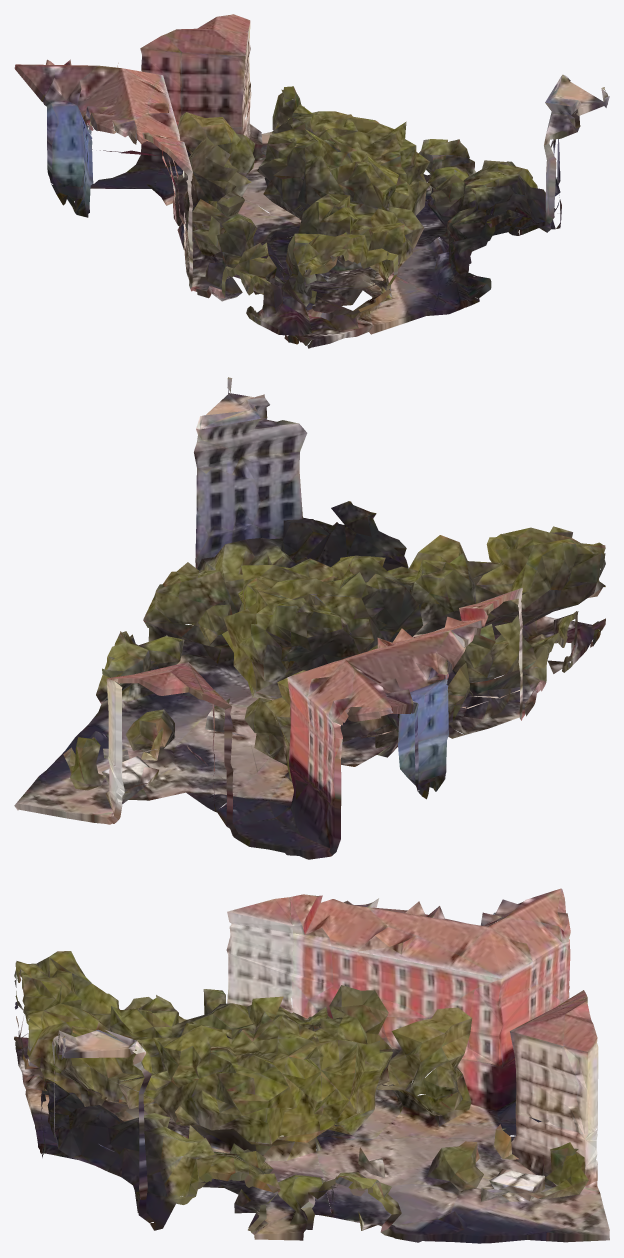
The picture shows the model from 3 angles, top to bottom: view 1: azimuth 30°, elevation 25°; view 2: azimuth 150°, elevation 25°; view 3: azimuth 270°, elevation 25°; orthographic projection. The views are drawn at different scales.
Parts seen in each view (by area): view 1: Mesh_0; view 2: Mesh_0; view 3: Mesh_0.
Boxes of the visible parts, x1,y1,x2,y2 form: Mesh_0: [14, 14, 609, 348]; Mesh_0: [14, 377, 605, 859]; Mesh_0: [14, 888, 609, 1243].
Size of the model in its own units: 67.74 by 35.23 by 82.56.
1 material, 1 textured.
